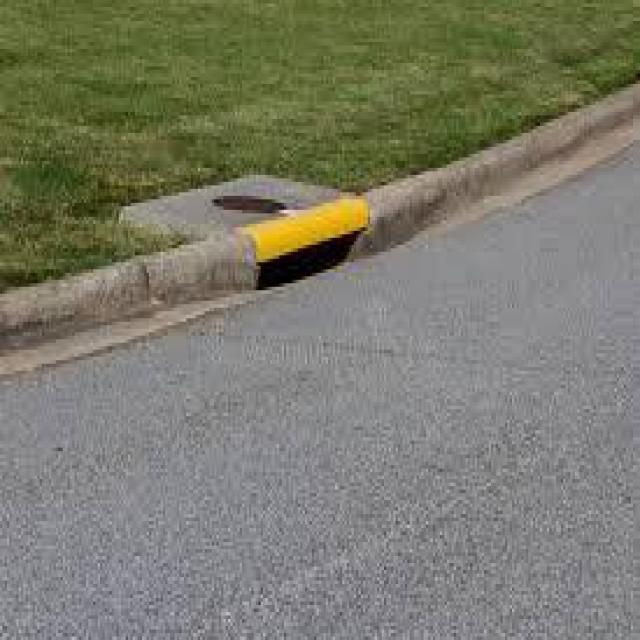curb: (99, 197, 364, 324), (351, 129, 532, 287), (512, 60, 634, 222), (1, 252, 133, 364)
